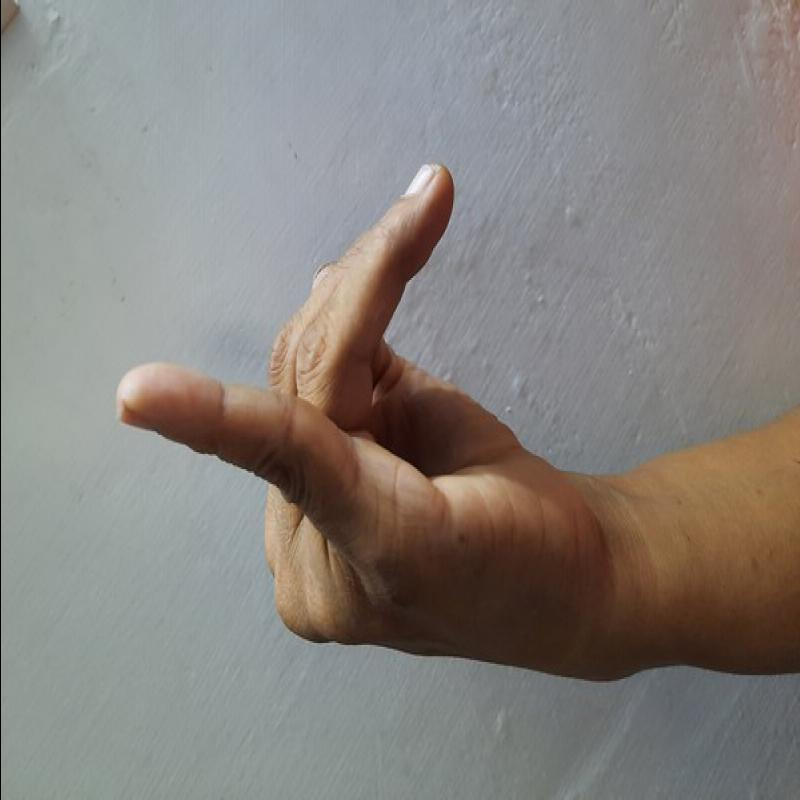Kartharee Mukham: (98, 144, 633, 692)
